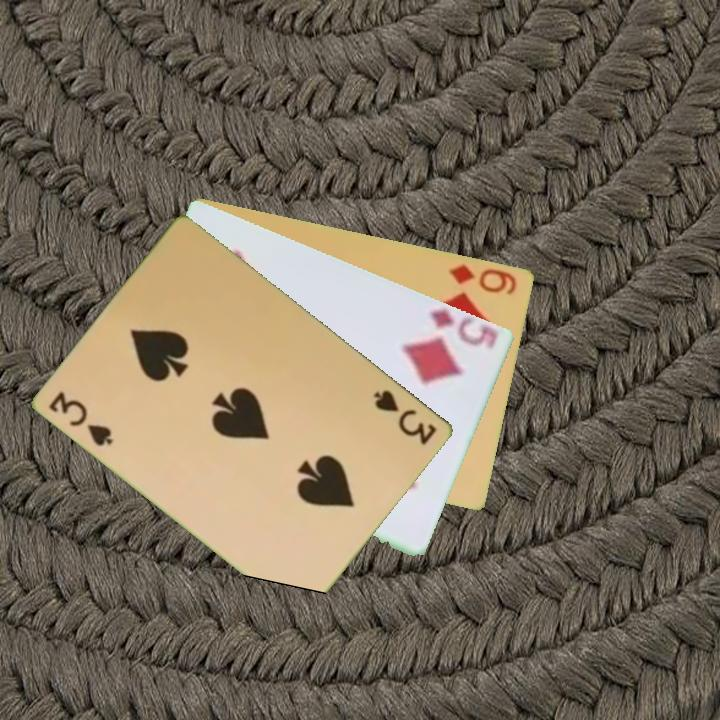3s: (46, 387, 117, 449), (370, 386, 440, 448)
5d: (426, 305, 497, 349)
6d: (445, 260, 520, 298)
